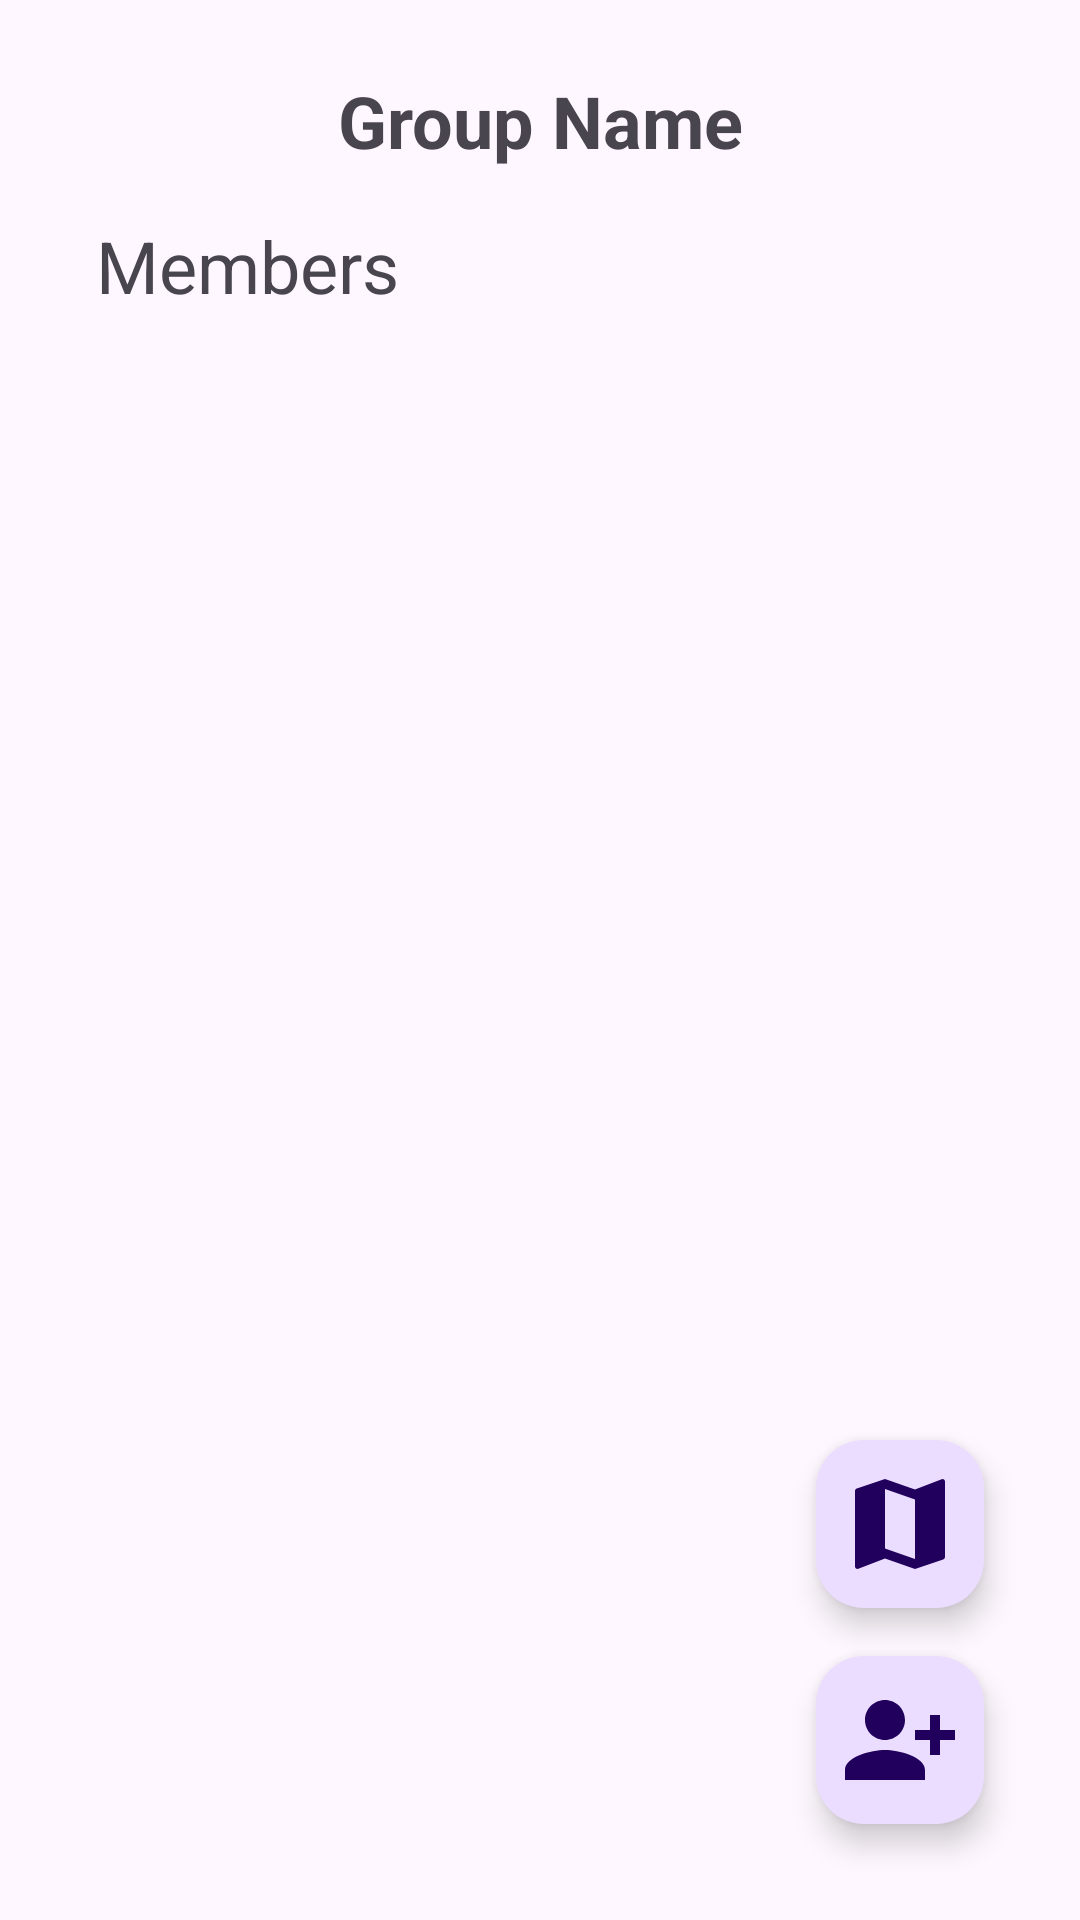

Locate icon controls on the screen. Image size 1080*1920, boxes as [left=x1, top=y1, right=x2, bottom=y2].
Add User: [left=816, top=1656, right=984, bottom=1824]
Map Button: [left=816, top=1440, right=984, bottom=1608]
